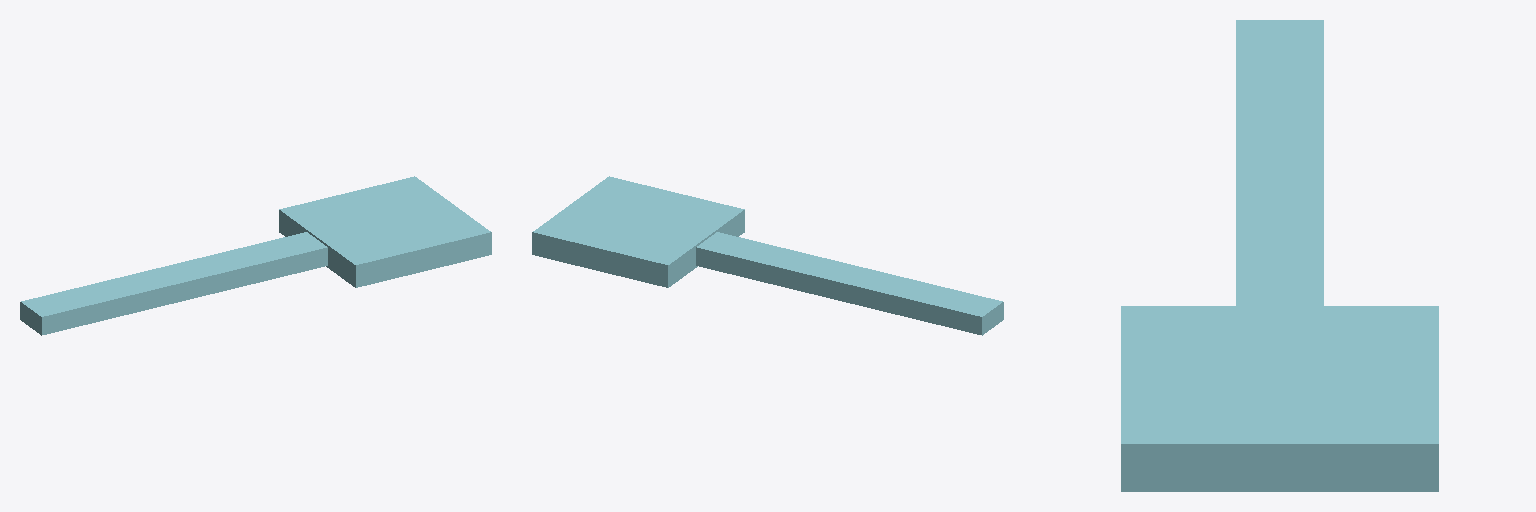
robot.urdf — cuboid_spatula_v5015:
<?xml version="1.0"?>
<robot name="cuboid_spatula_v5015">

  <link name="cuboid_spatula_v5015">
    <!-- Handle -->
    <visual>
      <origin xyz="0 0 0" rpy="0 0 0"/>
      <geometry>
        <box size="0.1433779027322593 0.018366586677380017 0.008862786502451564"/>
      </geometry>
      <material name="material">
        <color rgba="0.639 0.847 0.882 1.0"/>
      </material>
    </visual>
    <collision>
      <origin xyz="0 0 0" rpy="0 0 0"/>
      <geometry>
        <box size="0.1433779027322593 0.018366586677380017 0.008862786502451564"/>
      </geometry>
    </collision>

    <!-- Head -->
    <visual>
      <origin xyz="0.10573528397767307 0 0" rpy="0 0 0"/>
      <geometry>
        <box size="0.06809266522308681 0.0662841448862486 0.010892981779485578"/>
      </geometry>
      <material name="material">
        <color rgba="0.639 0.847 0.882 1.0"/>
      </material>
    </visual>
    <collision>
      <origin xyz="0.10573528397767307 0 0" rpy="0 0 0"/>
      <geometry>
        <box size="0.06809266522308681 0.0662841448862486 0.010892981779485578"/>
      </geometry>
    </collision>

    <inertial>
      <density value="400.0"/>
    </inertial>
  </link>

</robot>

--- Facts derived from the render (not from the file) ---
The picture shows the robot from 3 angles, left to right: view 1: azimuth 30°, elevation 25°; view 2: azimuth 150°, elevation 25°; view 3: azimuth 270°, elevation 25°; orthographic projection.
Robot: cuboid_spatula_v5015 — 1 links, 0 joints (none); root link cuboid_spatula_v5015; default pose: all joints at 0.
Links seen in each view (by area): view 1: cuboid_spatula_v5015; view 2: cuboid_spatula_v5015; view 3: cuboid_spatula_v5015.
Boxes of the visible links, box(x1,y1,x2,y2) form: cuboid_spatula_v5015: box(20, 176, 491, 335); cuboid_spatula_v5015: box(532, 176, 1003, 335); cuboid_spatula_v5015: box(1121, 20, 1438, 491).
Size in the robot's own frame: 0.2115 by 0.0663 by 0.0109 metres.
Geometry: primitives only (box / cylinder / sphere), no mesh files.
